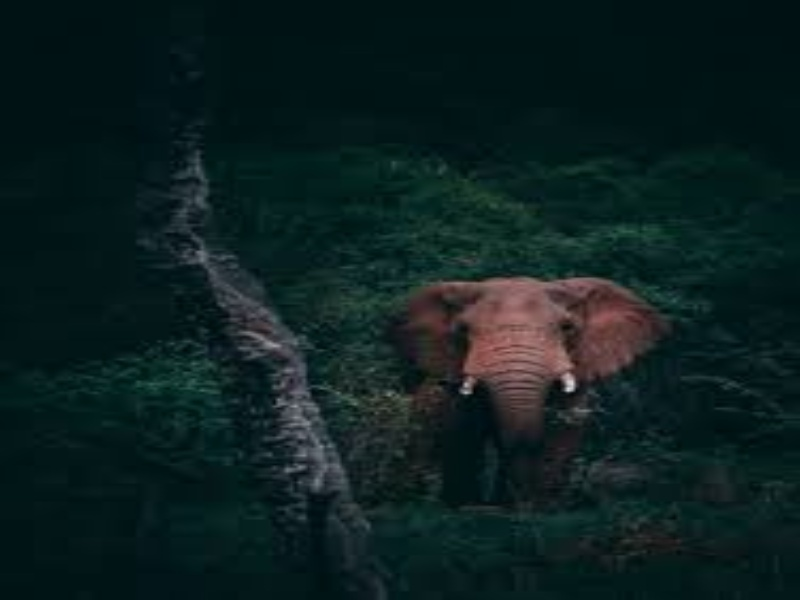elephant: (386, 231, 681, 497)
